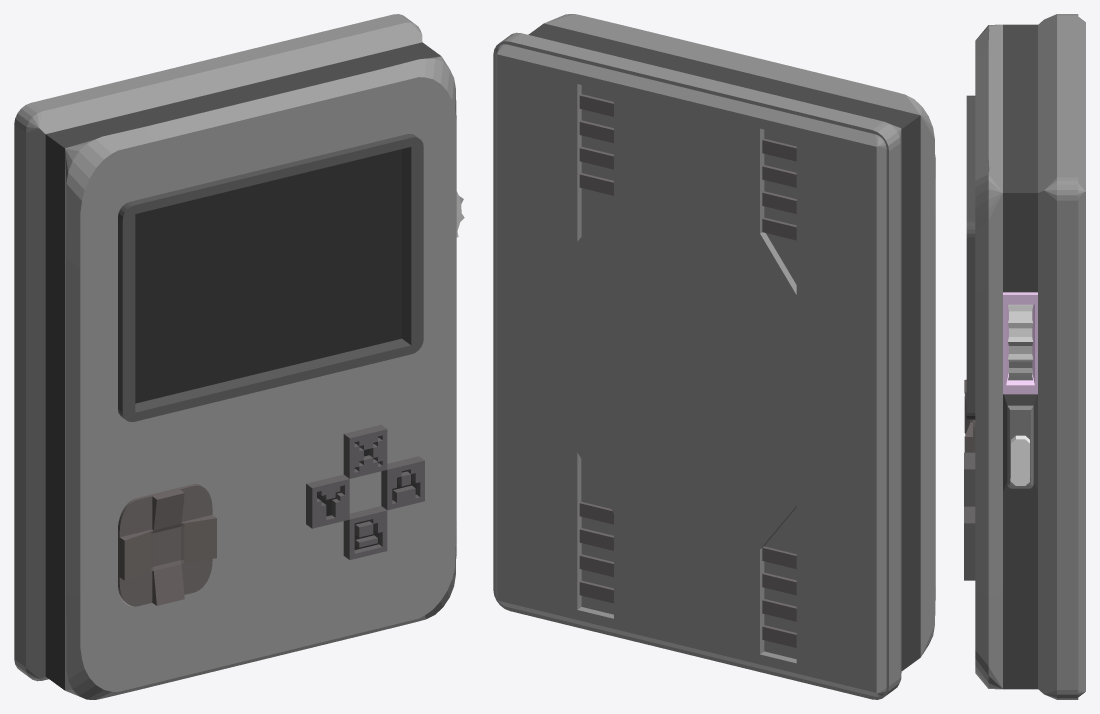
The model's file is ゲーム機.fbx.
3 views of the same model, side by side, from view 1: azimuth 30°, elevation 25°; view 2: azimuth 150°, elevation 25°; view 3: azimuth 270°, elevation 25° (orthographic). The views are drawn at different scales.
Parts seen in each view (by area): view 1: 本体１, 画面, 本体３, 本体２, 画面枠, ボタン２, ボタンX, ボタンB, ボタンY, ボタンA; view 2: 本体３, 本体２, 本体１; view 3: 本体３, 本体１, 本体２, 画面枠, 音量, 音量.001, 電源.001, 電源, ボタンX, ボタンA, ボタン２, ボタンB.
Boxes of the visible parts, x1=… form: 本体１: x1=65, y1=56, x2=456, y2=699; 画面: x1=135, y1=149, x2=401, y2=403; 本体３: x1=14, y1=14, x2=422, y2=681; 本体２: x1=45, y1=42, x2=440, y2=690; 画面枠: x1=118, y1=134, x2=423, y2=421; ボタン２: x1=118, y1=484, x2=216, y2=606; ボタンX: x1=343, y1=424, x2=387, y2=478; ボタンB: x1=343, y1=506, x2=387, y2=559; ボタンY: x1=306, y1=474, x2=349, y2=528; ボタンA: x1=381, y1=456, x2=424, y2=510; 本体３: x1=493, y1=32, x2=901, y2=699; 本体２: x1=528, y1=23, x2=920, y2=670; 本体１: x1=544, y1=14, x2=935, y2=657; 本体３: x1=1038, y1=14, x2=1085, y2=699; 本体１: x1=975, y1=24, x2=1002, y2=689; 本体２: x1=1003, y1=24, x2=1037, y2=689; 画面枠: x1=966, y1=95, x2=975, y2=419; 音量: x1=1008, y1=304, x2=1033, y2=380; 音量.001: x1=1003, y1=292, x2=1037, y2=394; 電源.001: x1=1007, y1=405, x2=1033, y2=488; 電源: x1=1011, y1=435, x2=1029, y2=485; ボタンX: x1=964, y1=452, x2=975, y2=506; ボタンA: x1=964, y1=506, x2=975, y2=560; ボタン２: x1=964, y1=379, x2=975, y2=452; ボタンB: x1=964, y1=560, x2=975, y2=580.
Size of the model in its own units: 1514 by 2000 by 424.
